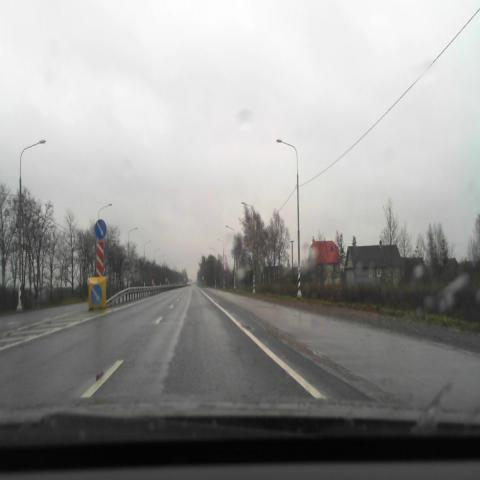4_2_1: (91, 283, 102, 306)
